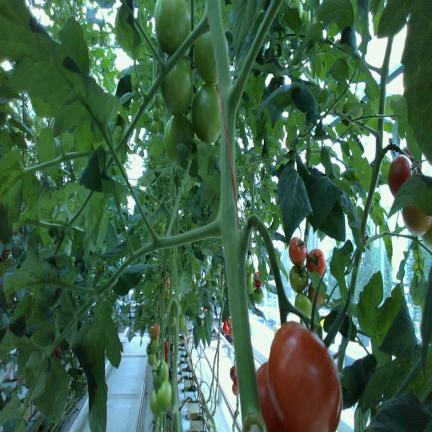6kp_peduncle: (220, 197, 287, 304), (373, 139, 406, 174), (164, 287, 179, 330)
6kp_petiole: (174, 167, 245, 279), (215, 21, 269, 153), (168, 0, 228, 68), (364, 52, 390, 90), (356, 118, 384, 152)
MainStem: (205, 0, 267, 432), (361, 119, 384, 236), (172, 246, 180, 432), (378, 37, 394, 114), (161, 259, 166, 339), (167, 309, 171, 368)
tomato: (268, 322, 342, 431), (154, 0, 190, 55), (256, 362, 284, 431), (161, 58, 193, 115), (192, 83, 220, 143), (164, 116, 194, 166), (194, 32, 216, 85), (388, 155, 411, 196), (402, 205, 432, 235), (307, 248, 326, 276), (289, 237, 307, 266), (156, 380, 172, 411), (403, 146, 422, 171), (289, 266, 307, 292), (295, 292, 312, 317), (153, 361, 168, 388), (308, 283, 324, 305), (150, 389, 162, 416), (422, 223, 432, 247), (254, 271, 263, 289), (253, 289, 263, 304), (151, 323, 160, 339), (232, 377, 239, 396), (151, 338, 159, 352), (151, 120, 159, 134), (148, 352, 156, 365), (153, 107, 160, 121), (223, 320, 230, 334), (179, 314, 185, 330), (230, 365, 236, 381), (146, 343, 151, 355), (229, 329, 232, 338)
